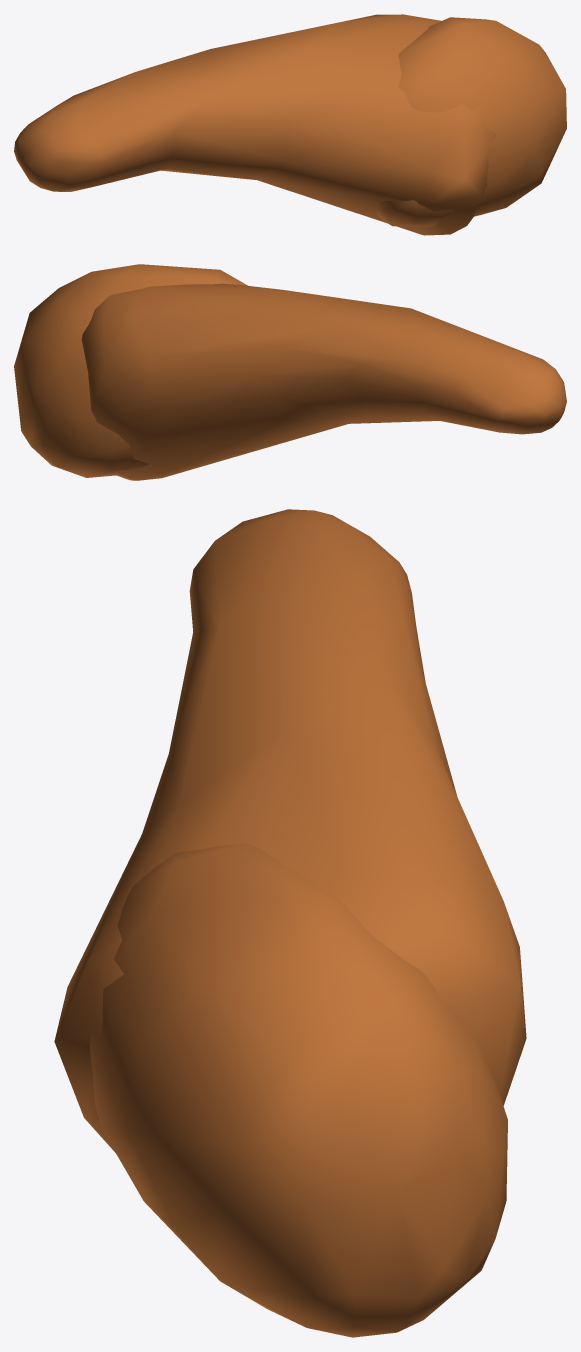
The model's file is Superior_colliculus_right.glb.
3 views of the same model, one above another, from view 1: azimuth 30°, elevation 25°; view 2: azimuth 150°, elevation 25°; view 3: azimuth 270°, elevation 25° (orthographic). The views are drawn at different scales.
Visible parts, largest first — view 1: Superior_colliculus.r_grp1.035; view 2: Superior_colliculus.r_grp1.035; view 3: Superior_colliculus.r_grp1.035.
Part boxes in pixels (<box>): Superior_colliculus.r_grp1.035: <box>14,14,566,235</box>; Superior_colliculus.r_grp1.035: <box>14,264,566,480</box>; Superior_colliculus.r_grp1.035: <box>54,509,526,1337</box>.
Bounding box in the file's own units: 0.017 × 0.00639 × 0.00647.
